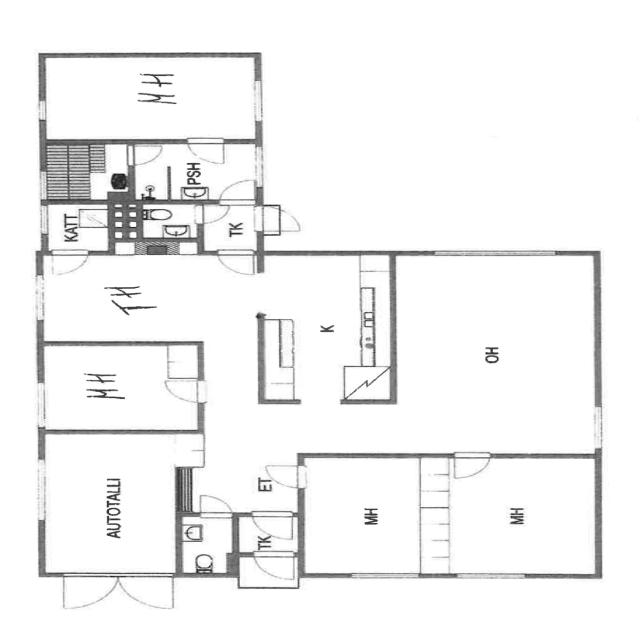door: (130, 138, 259, 202), (250, 462, 304, 542), (178, 513, 236, 576), (246, 509, 301, 543), (255, 206, 309, 236), (256, 462, 309, 492), (446, 451, 494, 484), (158, 376, 210, 406), (180, 137, 233, 165), (250, 550, 297, 581), (214, 247, 258, 278), (45, 250, 92, 277), (215, 177, 260, 205), (120, 142, 167, 168), (194, 492, 233, 517), (193, 203, 231, 225)
window: (424, 245, 560, 263), (27, 456, 57, 526), (584, 399, 612, 454), (26, 378, 54, 432), (448, 568, 536, 584), (243, 76, 270, 127), (28, 272, 52, 328), (341, 569, 421, 583), (248, 144, 270, 191), (30, 96, 54, 126), (36, 203, 54, 240)
zone: (387, 250, 600, 455), (28, 242, 273, 346), (39, 429, 184, 576), (426, 456, 598, 578), (257, 251, 391, 404), (39, 52, 256, 143), (300, 454, 444, 577), (37, 341, 203, 433), (129, 141, 262, 201), (45, 570, 183, 614), (39, 141, 130, 201), (122, 201, 200, 252), (41, 200, 112, 253), (178, 513, 234, 577)
